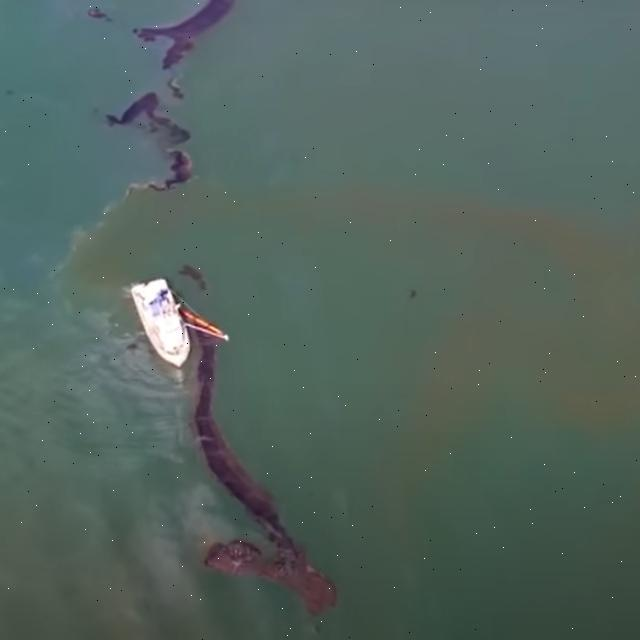truecolor: (190, 325, 336, 616), (133, 0, 234, 68), (106, 91, 190, 144), (146, 150, 192, 190), (179, 265, 207, 290), (168, 77, 182, 96)
